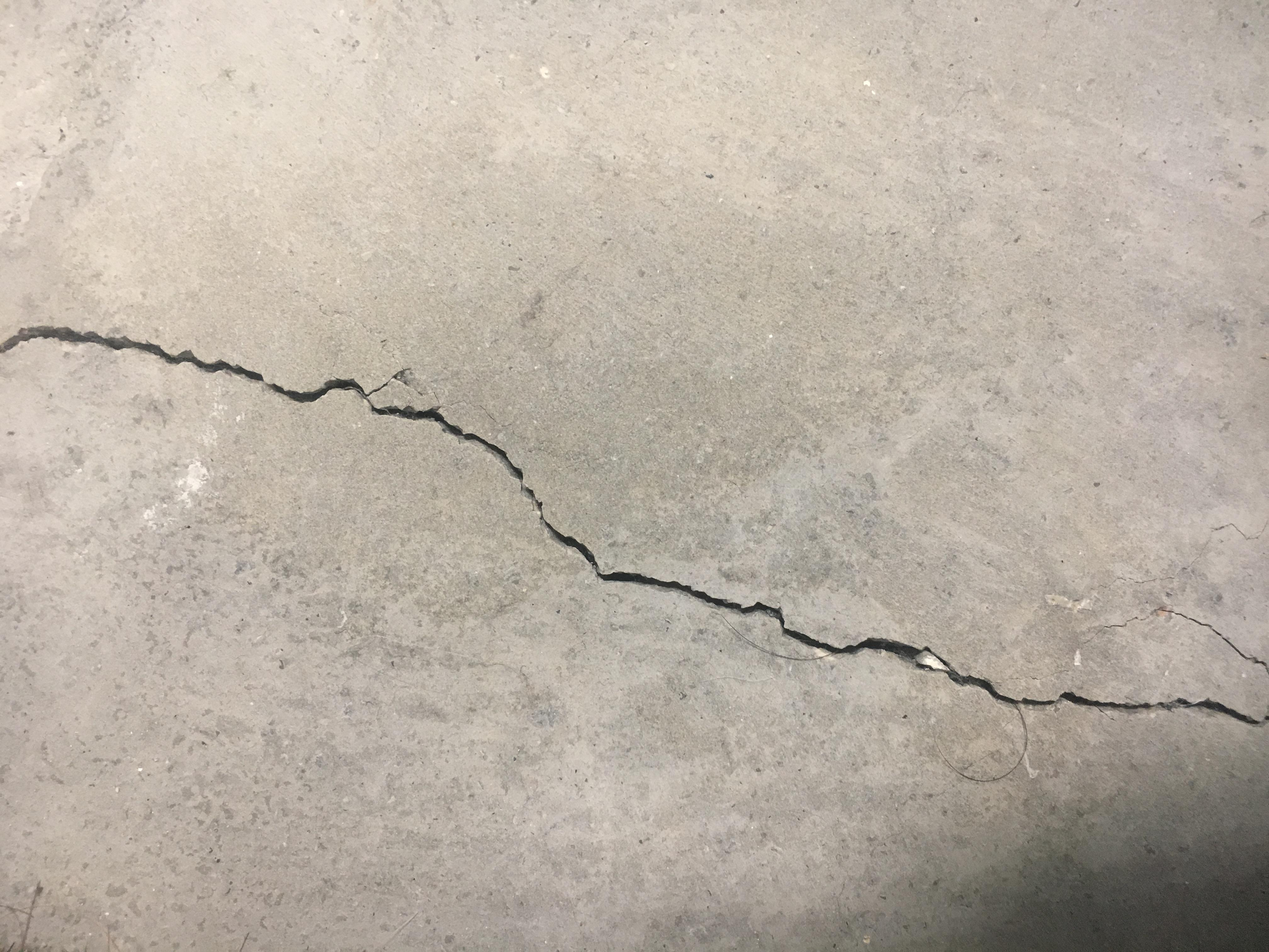Diagonal Crack: (3, 319, 1266, 759)
